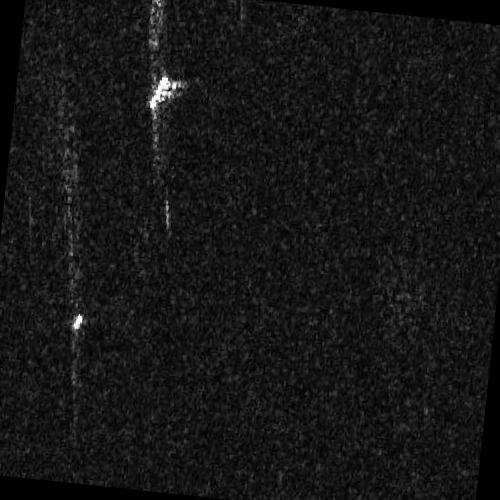ship: (148, 73, 171, 111)
